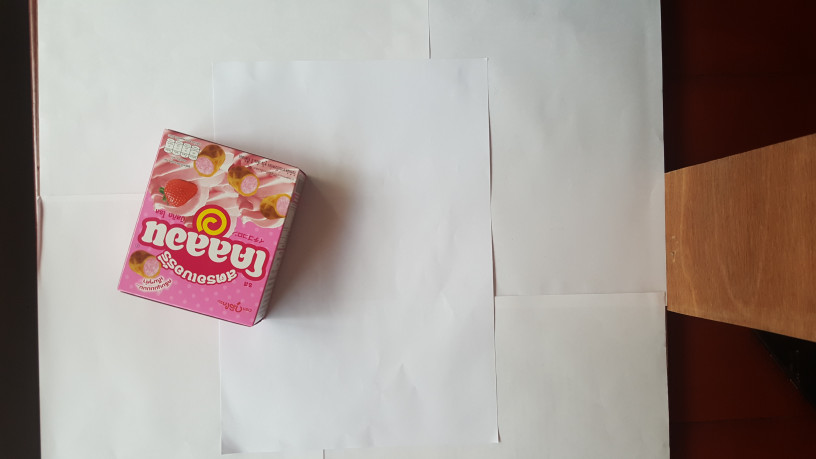collon-strawberry: (115, 127, 306, 325)
